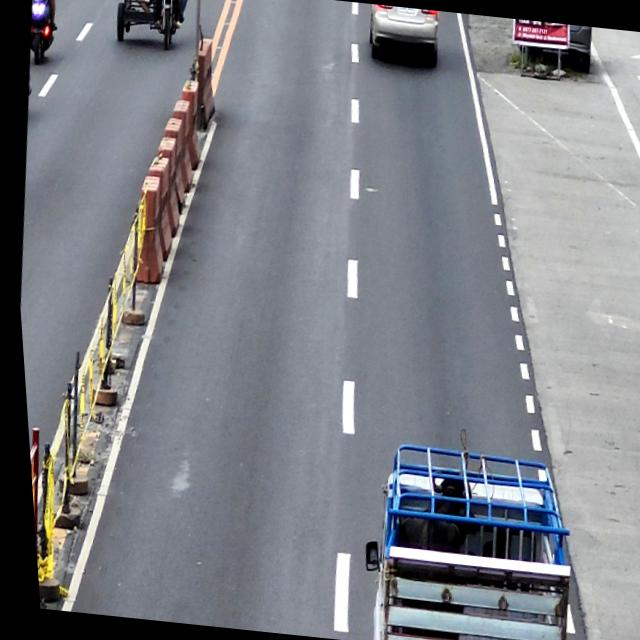Car: (363, 4, 443, 68)
Truck: (344, 436, 579, 640)
